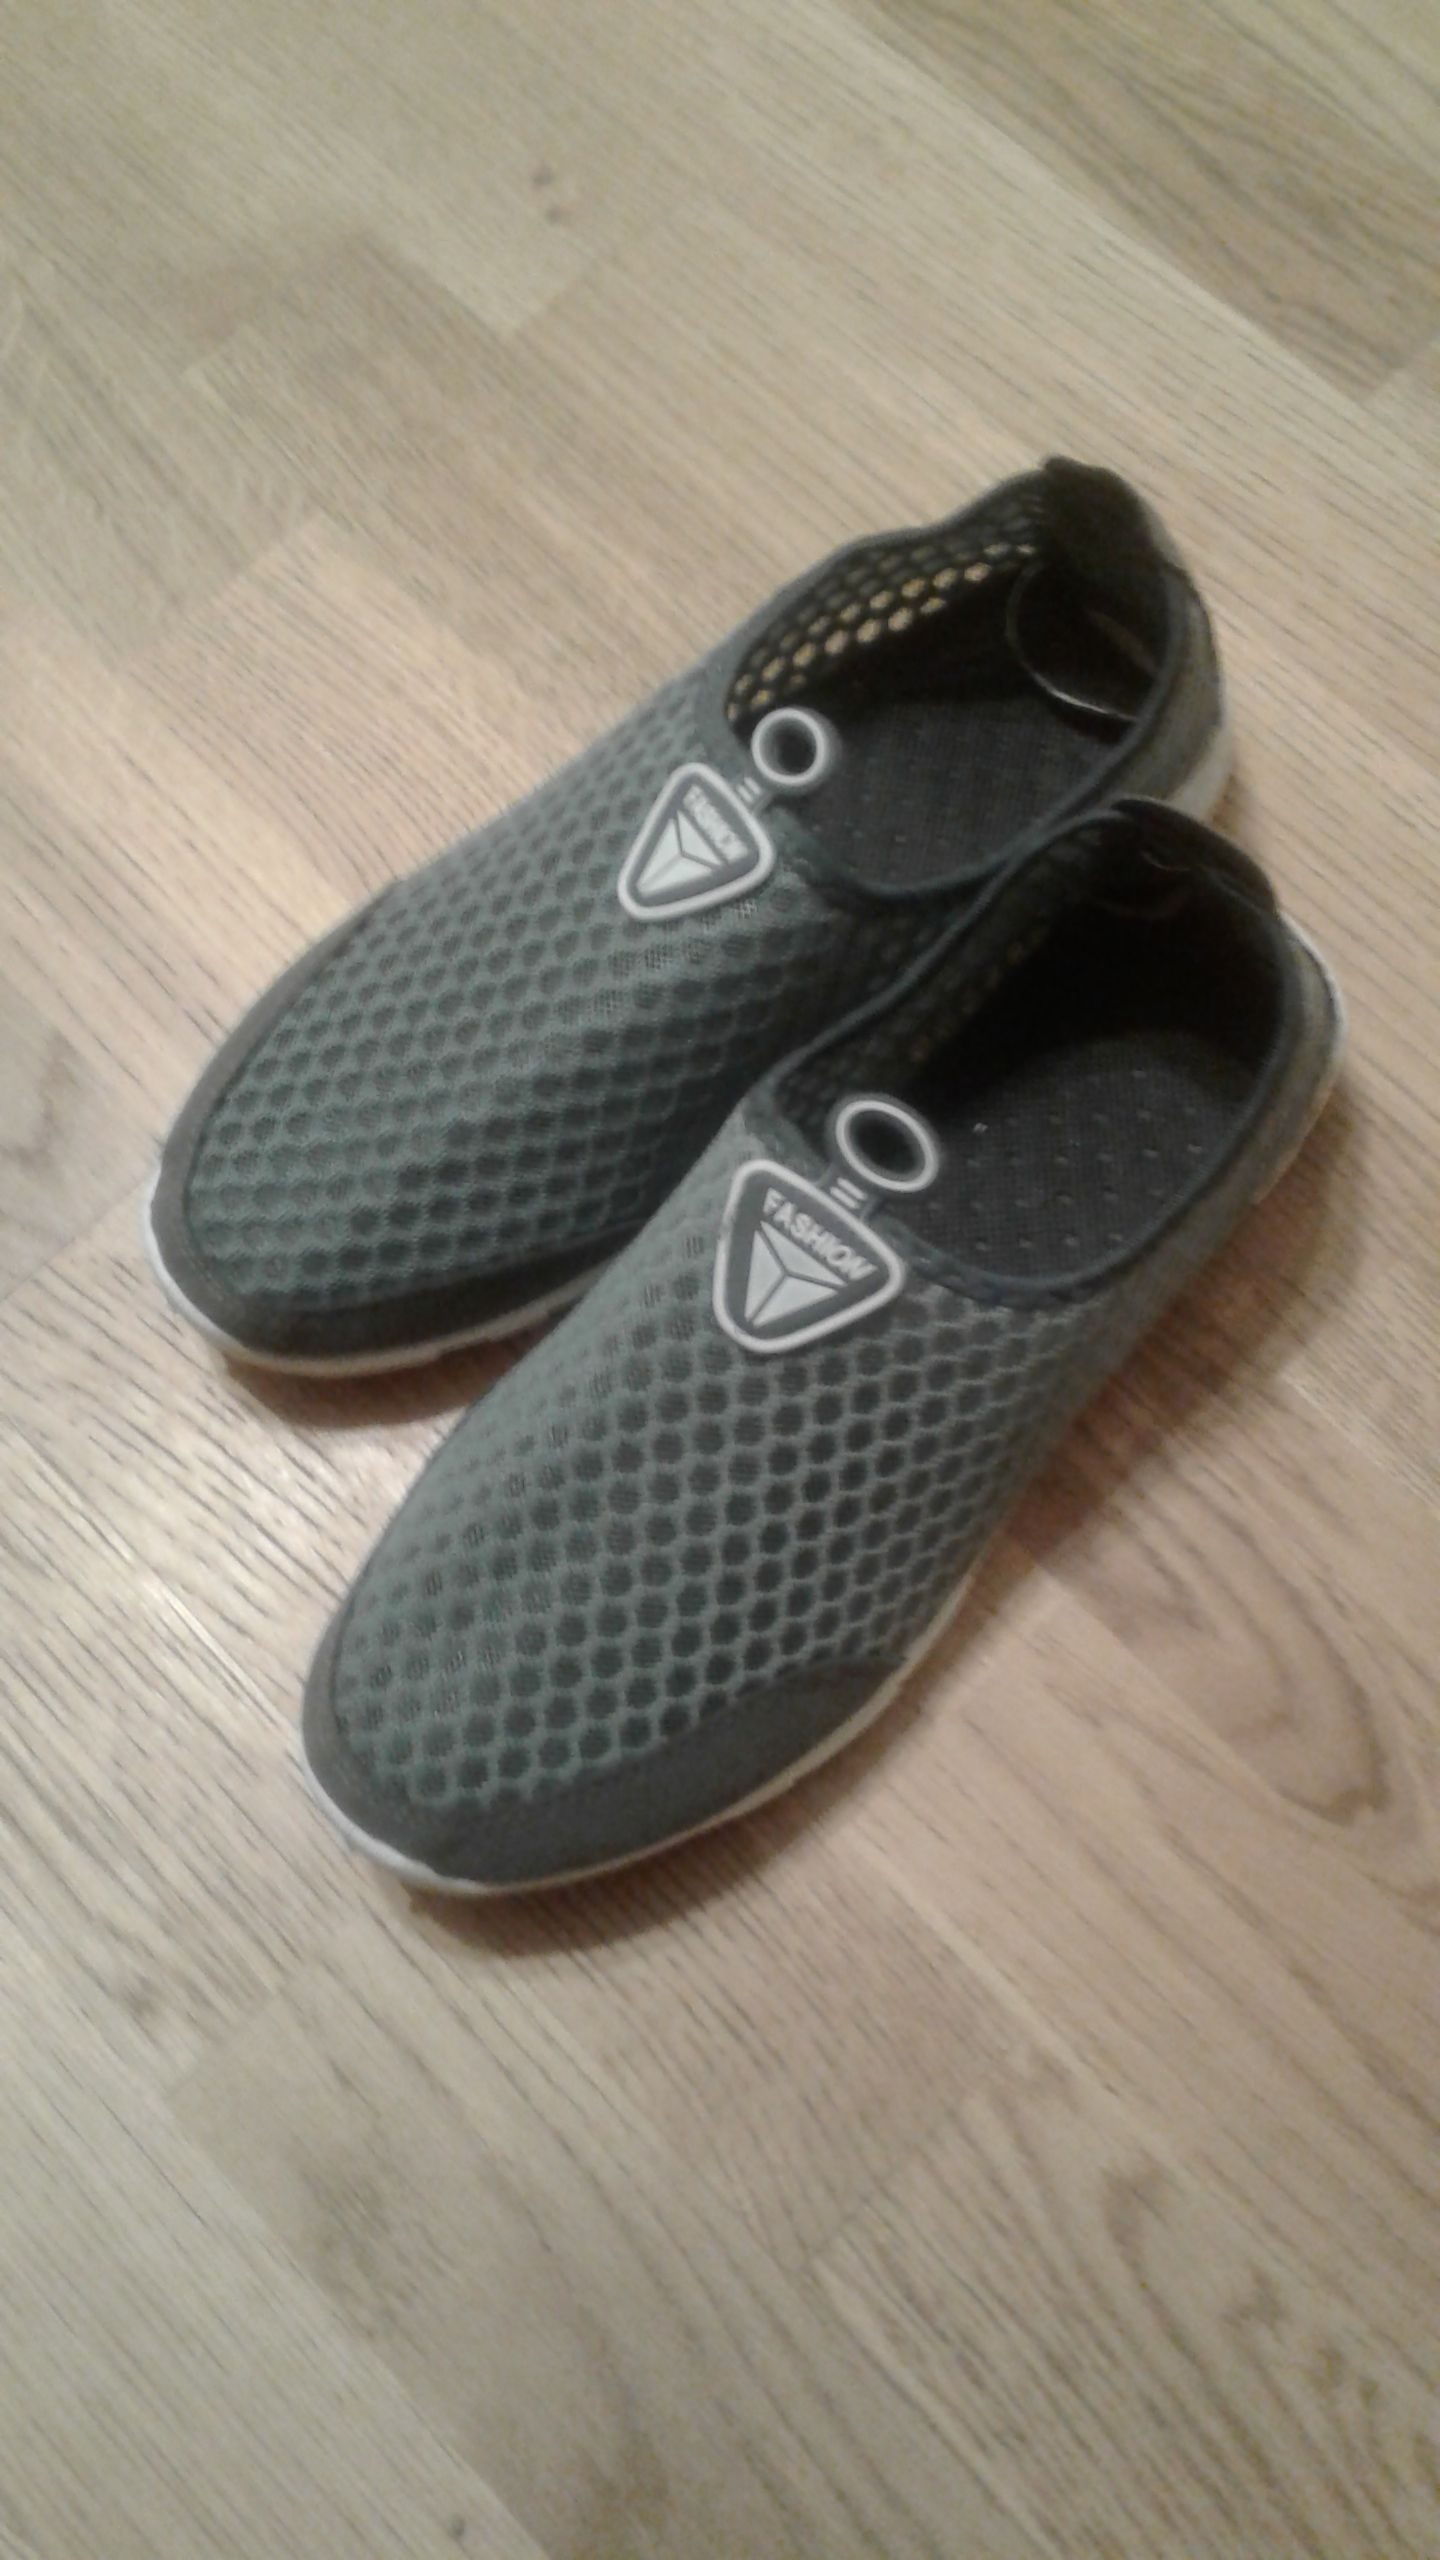clothes: (125, 441, 1347, 1904)
